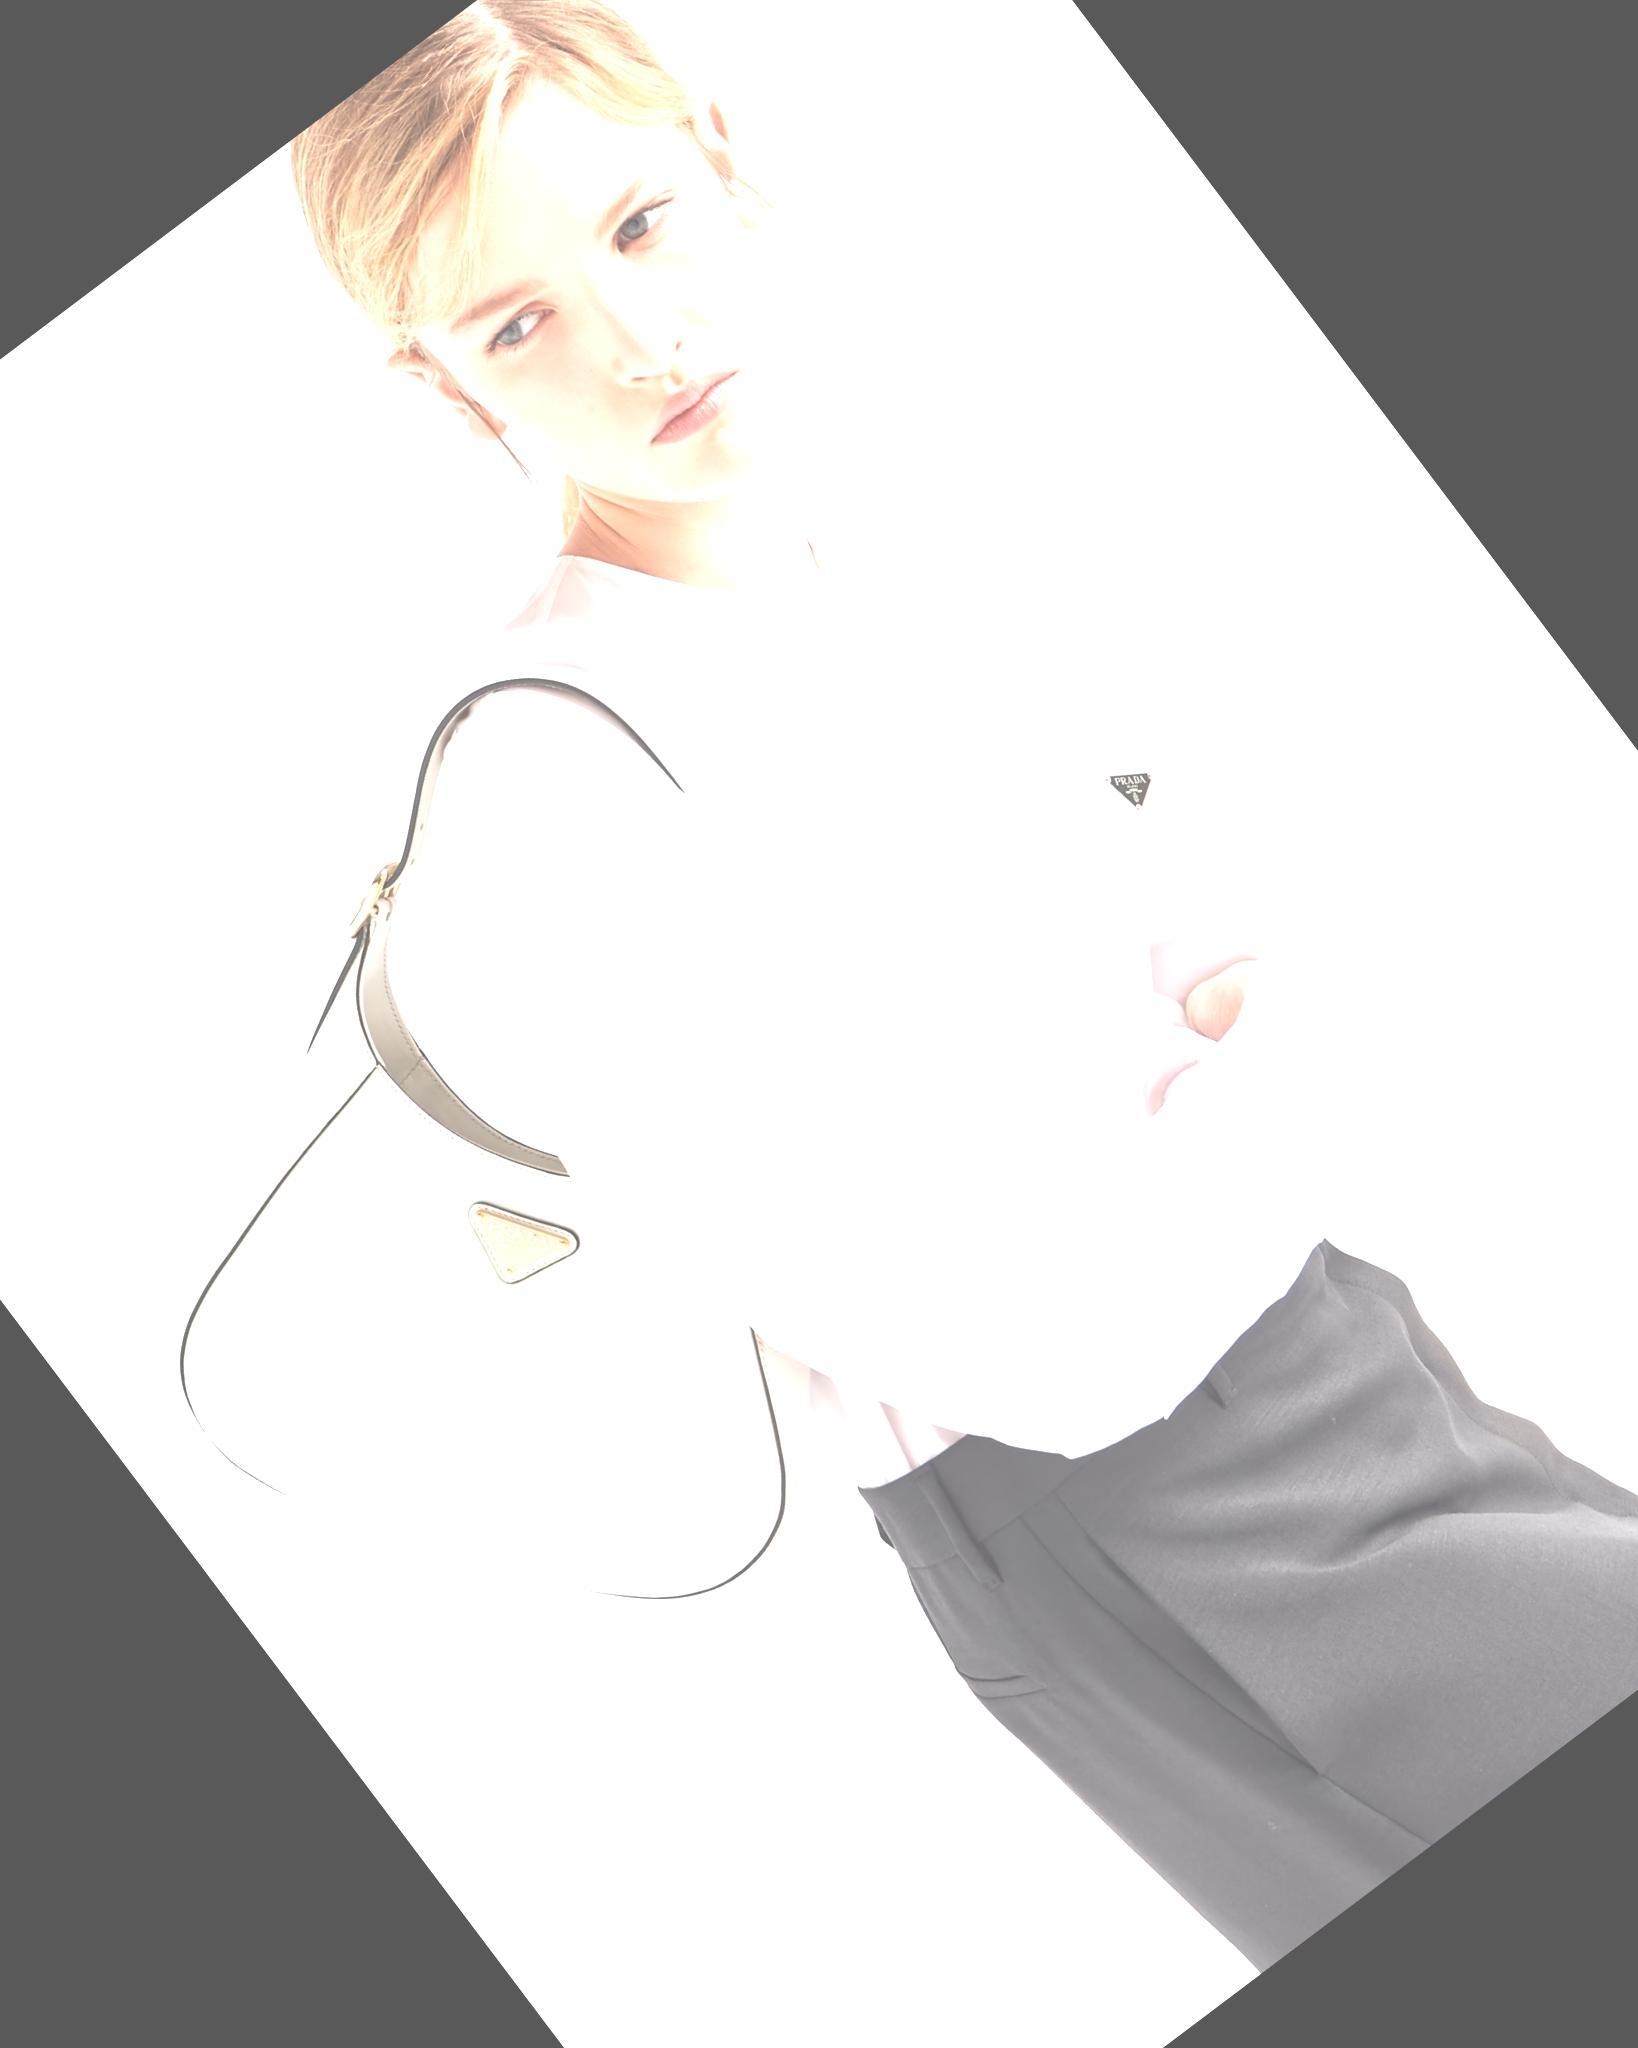PRADA: (463, 1177, 572, 1287)
